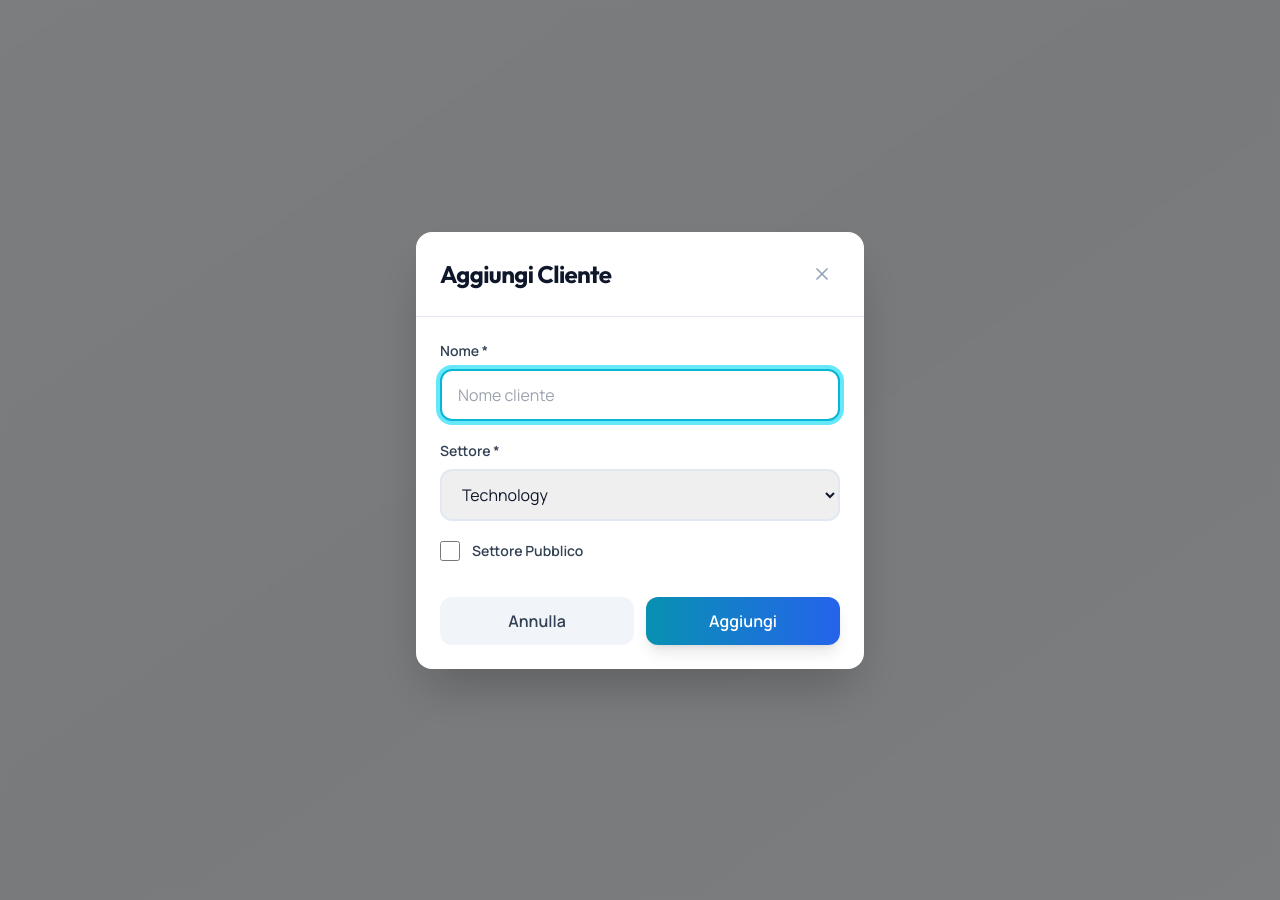
Test: QuickAddCustomerModal › Validation Errors › should show validation errors
Click the button "Aggiungi": (743, 620) [646,596,840,644]
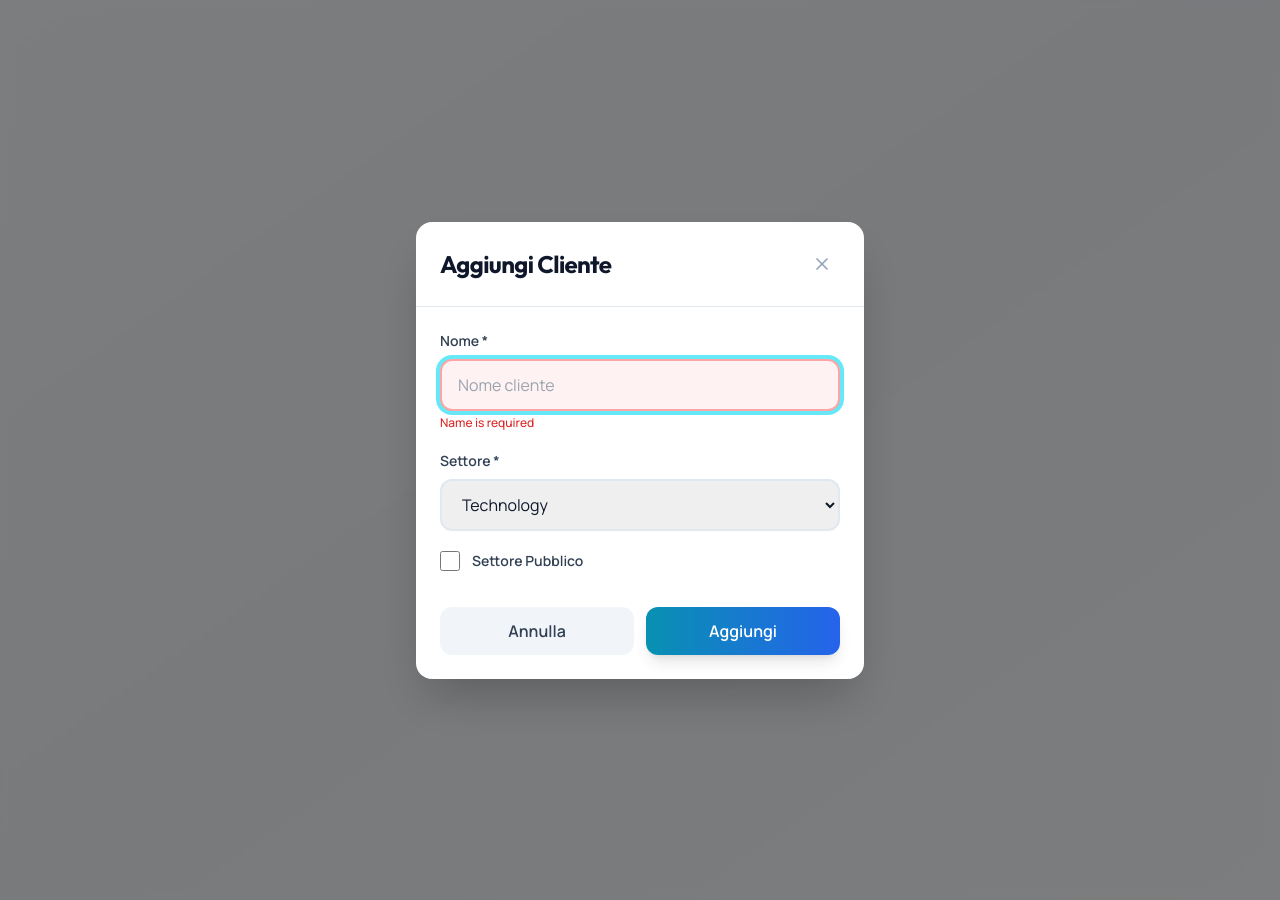
Expected: the text "Name is required" is shown, [440,414,534,430]
